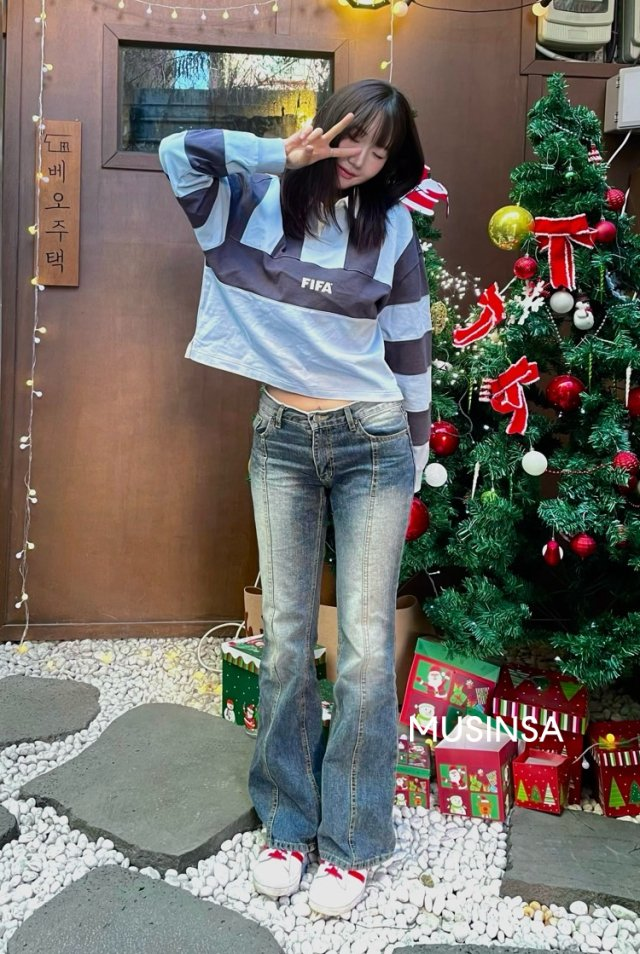Jeans: (241, 385, 414, 865)
Shoes: (241, 834, 386, 920)
Top: (150, 129, 452, 466)
